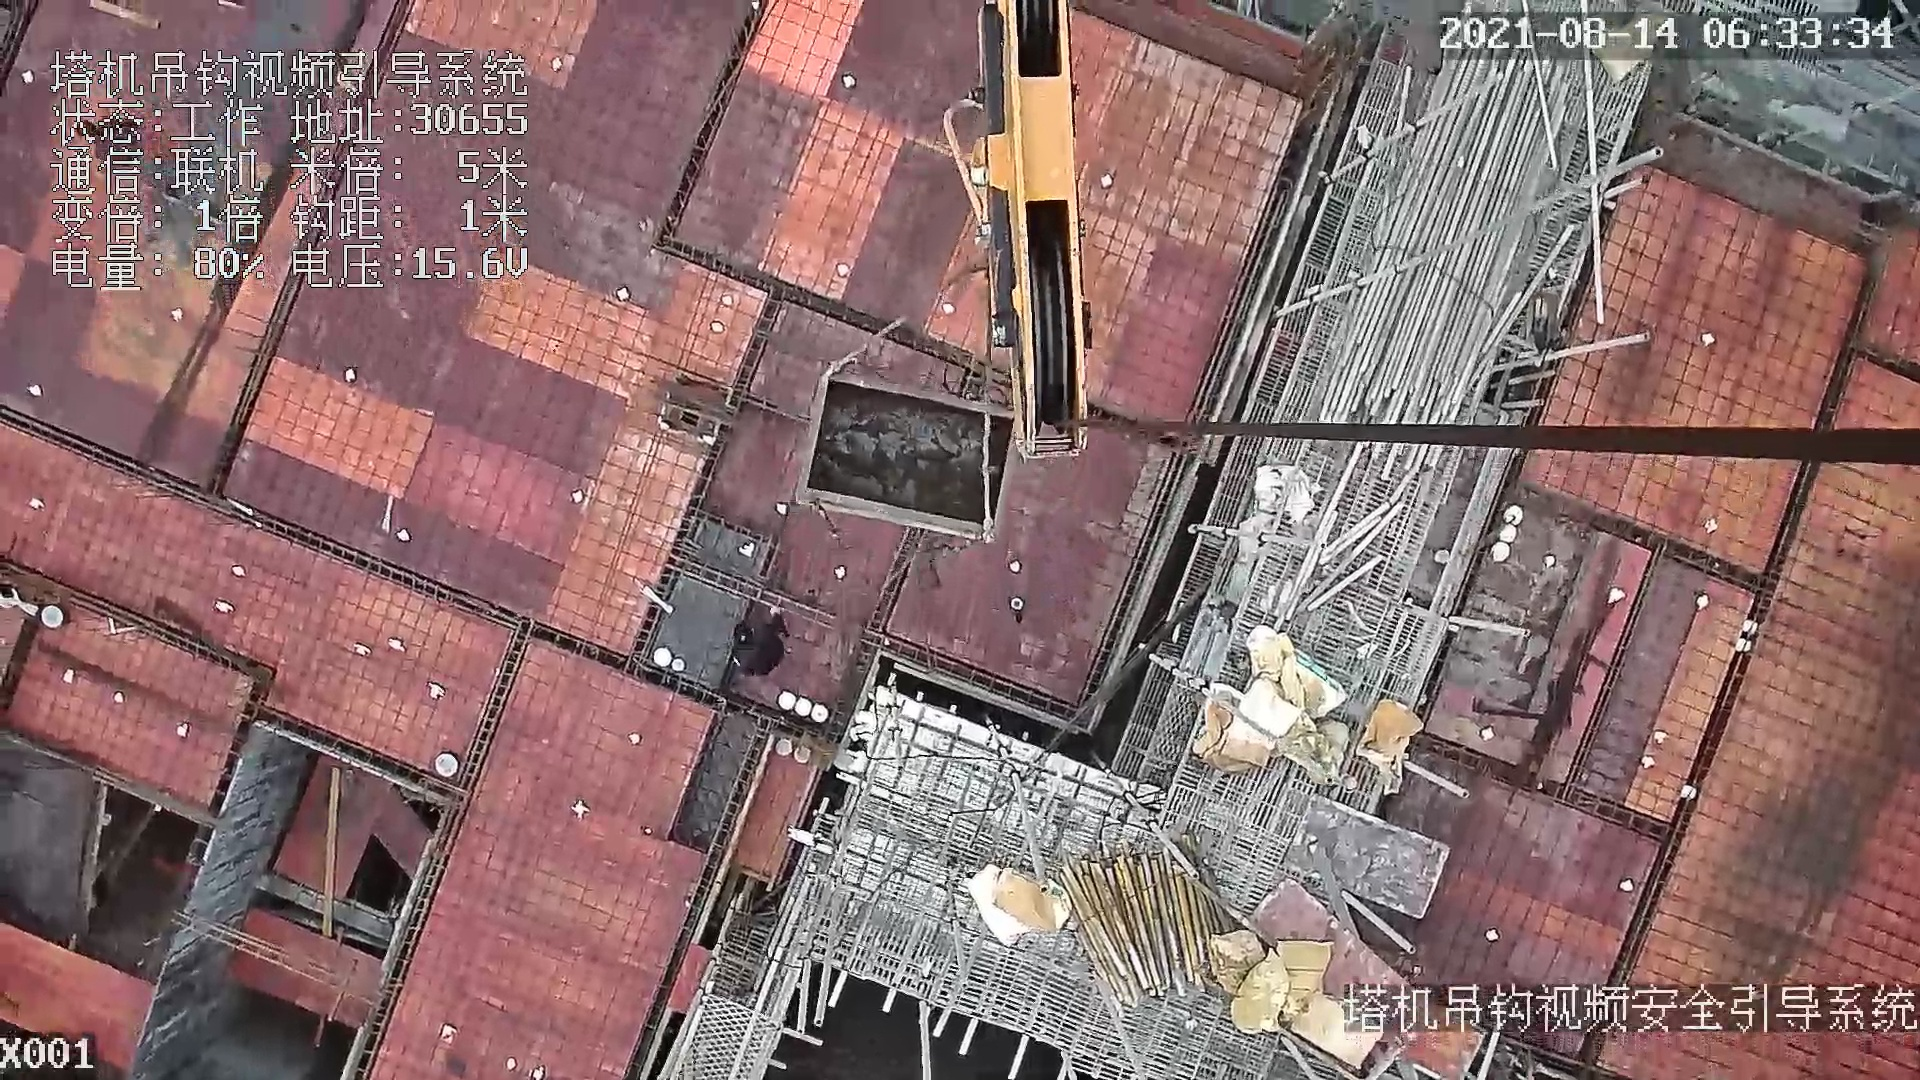hook: (941, 1, 1095, 453)
hopper: (812, 353, 1020, 574)
person: (726, 612, 796, 687)
scaffold: (1356, 24, 1551, 449), (1032, 830, 1241, 1000)
